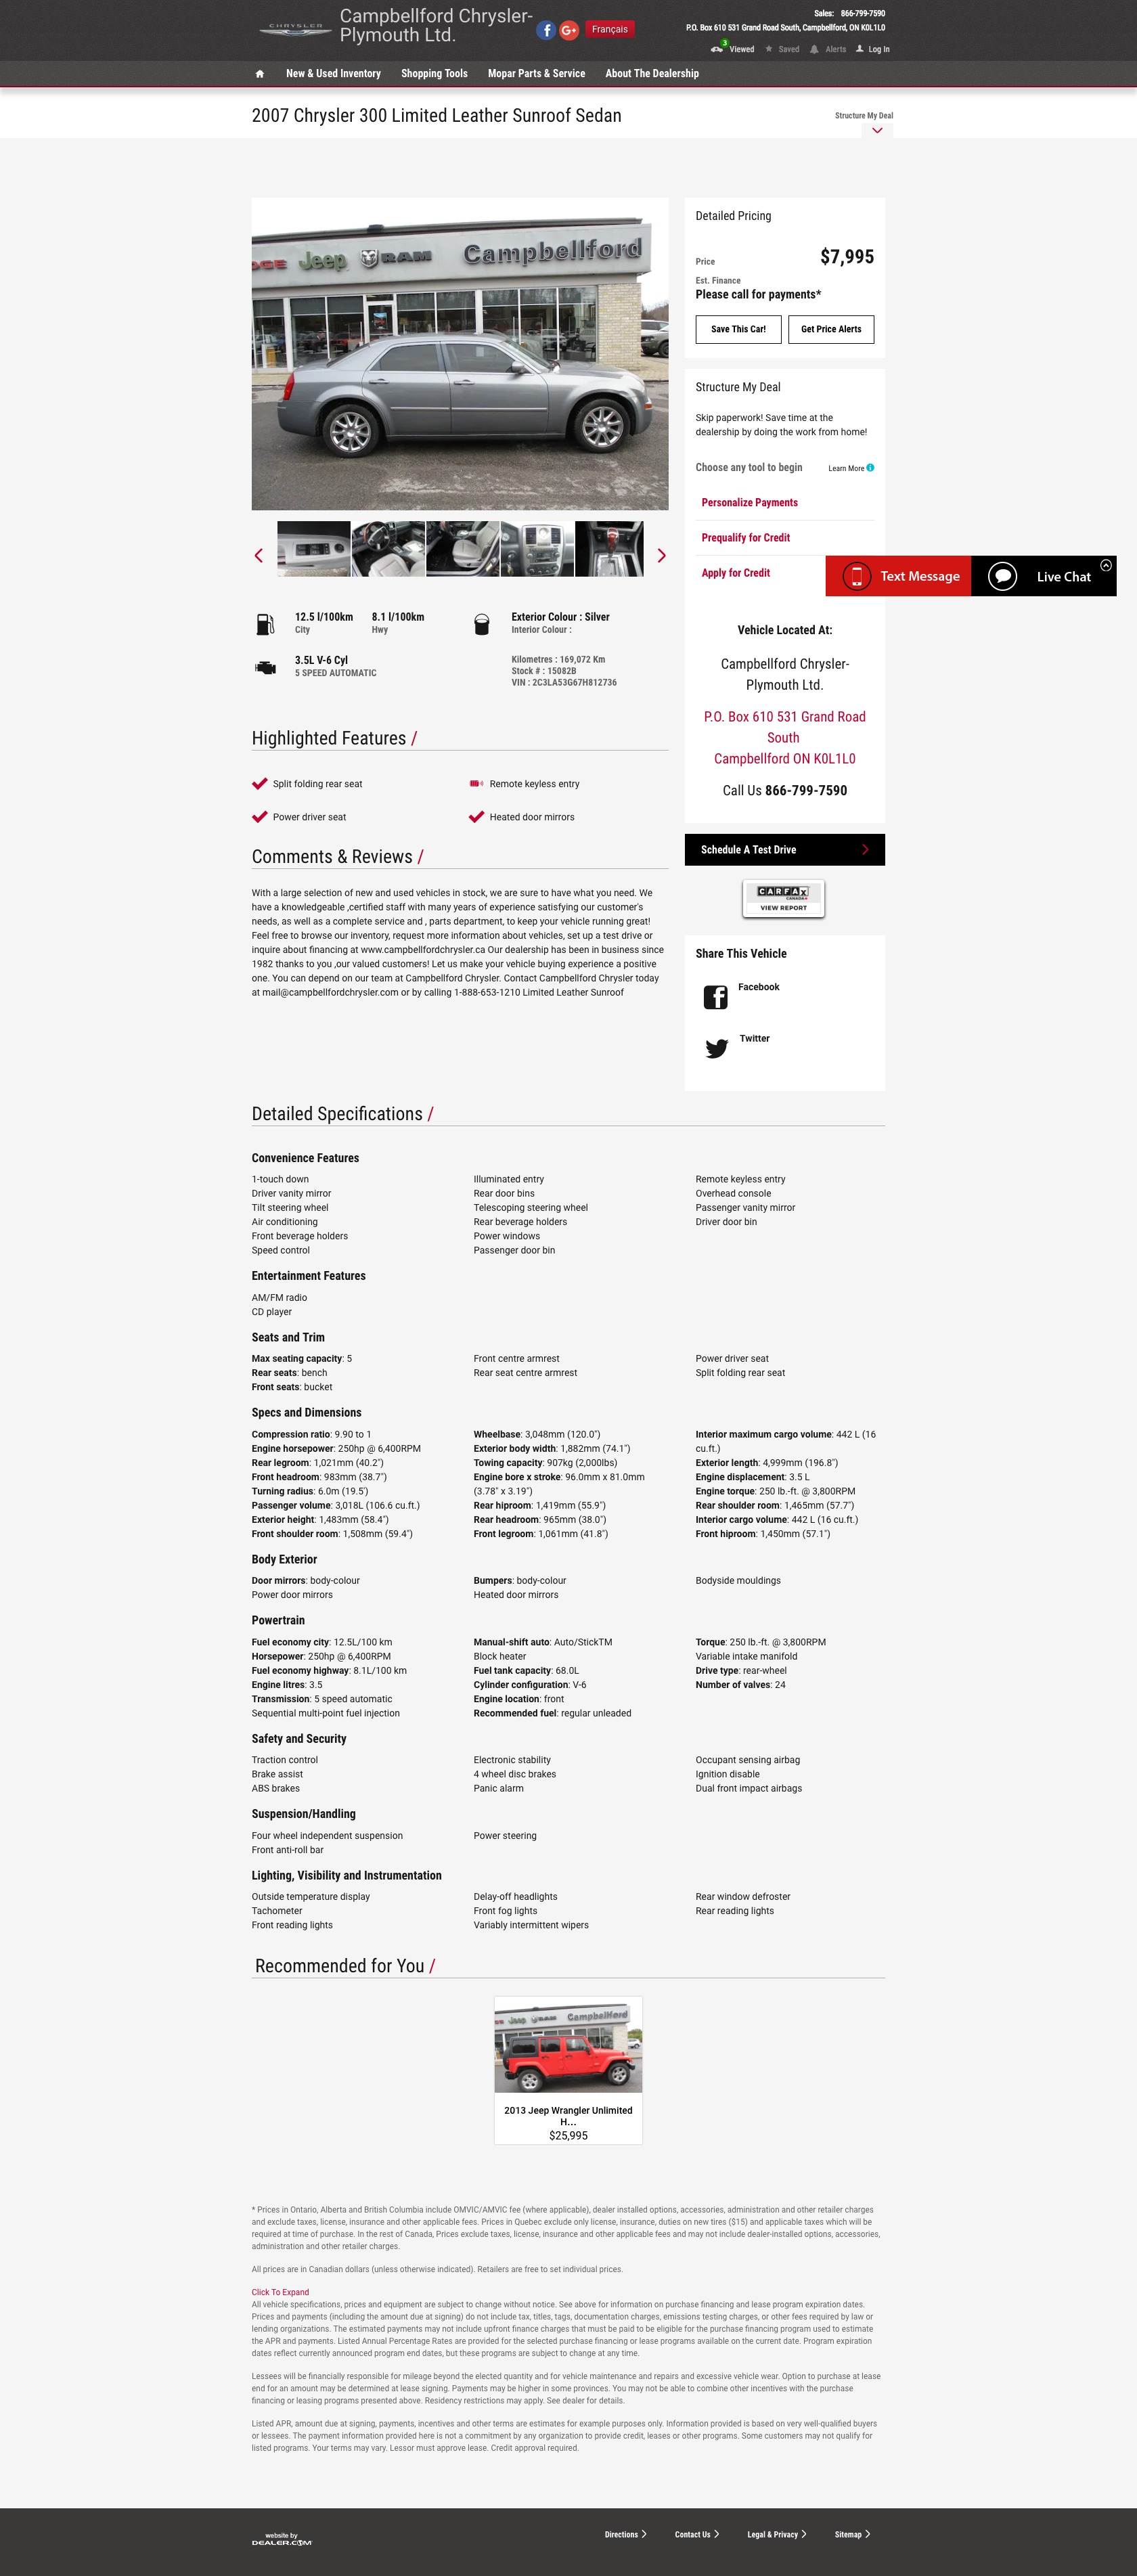car: (657, 549, 667, 563)
